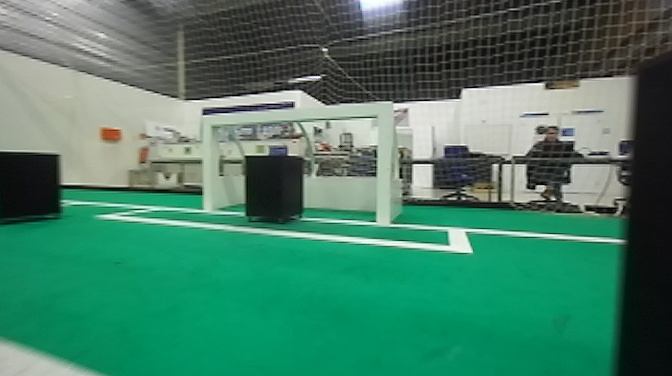goalpost: (374, 105, 395, 220), (203, 113, 219, 213)
